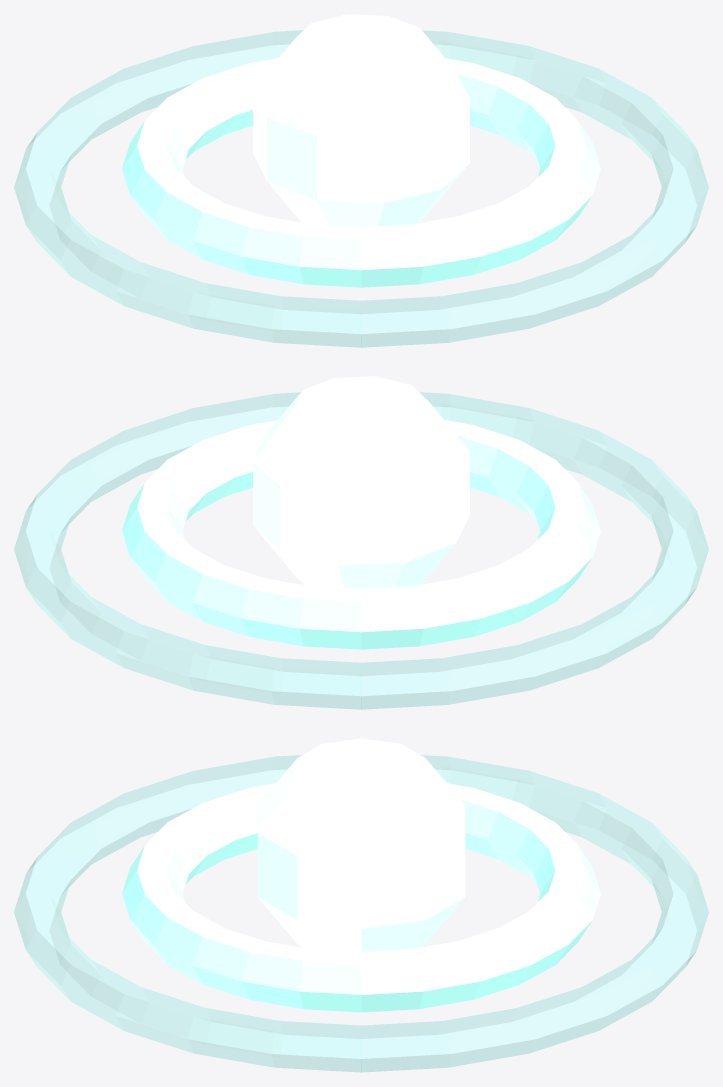
File: action-pulse.glb
3 views of the same model, one above another, from view 1: azimuth 30°, elevation 25°; view 2: azimuth 150°, elevation 25°; view 3: azimuth 270°, elevation 25° (orthographic).
Parts seen in each view (by area): view 1: Pulse_Outer, Pulse_Middle, Pulse_Core; view 2: Pulse_Outer, Pulse_Middle, Pulse_Core; view 3: Pulse_Outer, Pulse_Middle, Pulse_Core.
Boxes of the visible parts, x1,y1,x2,y2 form: Pulse_Outer: [14, 30, 708, 347]; Pulse_Middle: [122, 58, 600, 287]; Pulse_Core: [253, 14, 469, 226]; Pulse_Outer: [14, 392, 708, 709]; Pulse_Middle: [122, 420, 600, 649]; Pulse_Core: [253, 376, 469, 588]; Pulse_Outer: [14, 755, 708, 1072]; Pulse_Middle: [122, 783, 600, 1012]; Pulse_Core: [257, 738, 465, 951].
Size of the model in its own units: 1.03 by 0.34 by 1.03.
